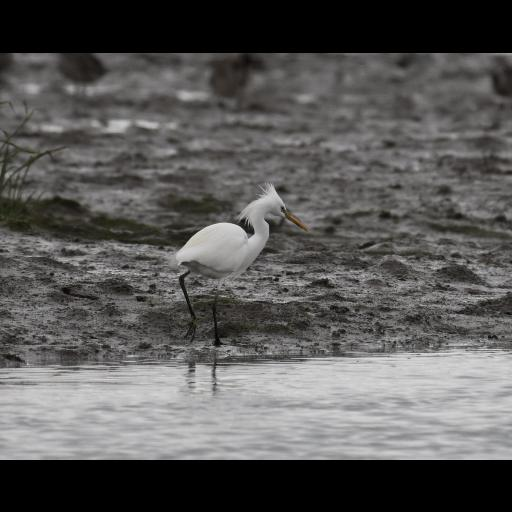chinese_egret: (171, 182, 309, 346)
